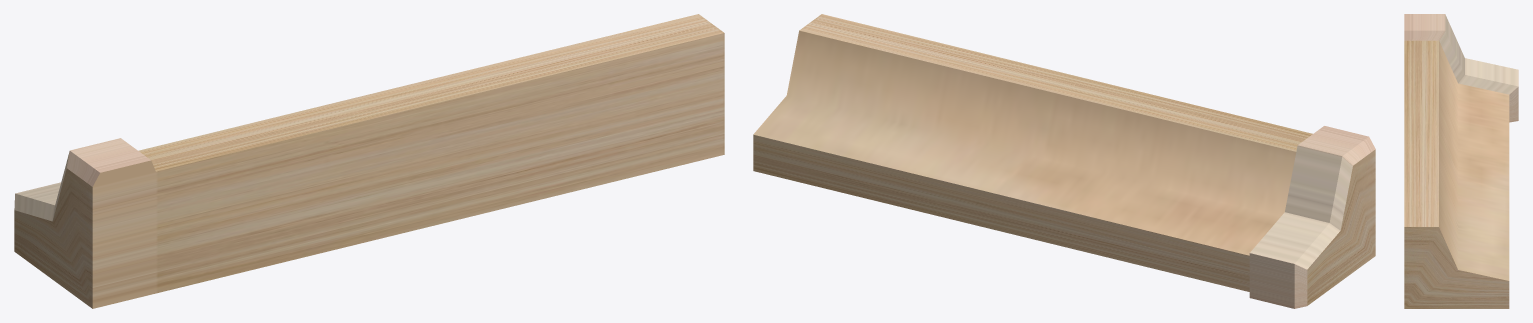
The model's file is bar_with_connector.FBX.
3 views of the same model, side by side, from view 1: azimuth 30°, elevation 25°; view 2: azimuth 150°, elevation 25°; view 3: azimuth 270°, elevation 25° (orthographic). The views are drawn at different scales.
Parts seen in each view (by area): view 1: Box001; view 2: Box001; view 3: Box001.
Part boxes in pixels (<box>): Box001: <box>14,14,724,308</box>; Box001: <box>753,14,1375,308</box>; Box001: <box>1404,14,1518,308</box>.
Bounding box in the file's own units: 72.25 × 14.67 × 16.86.
2 materials, 2 textured.
